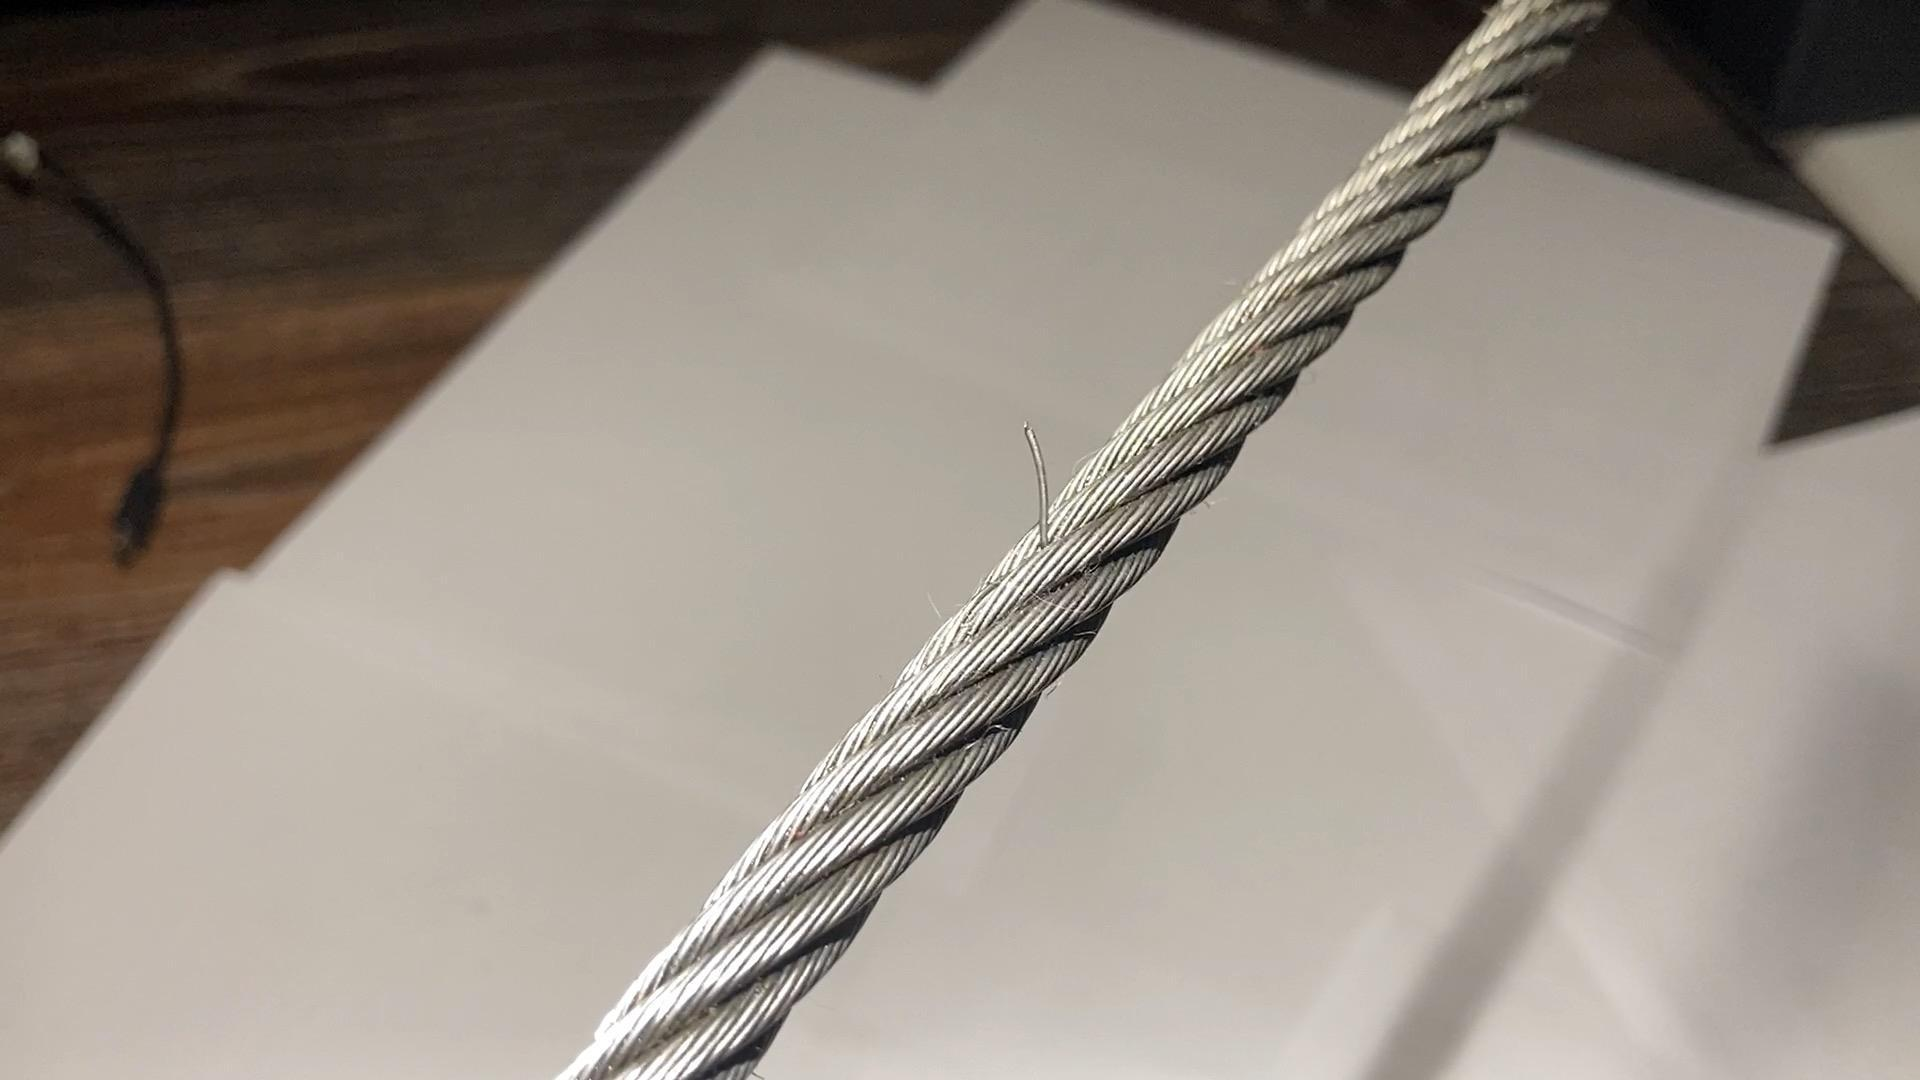break: (998, 413, 1080, 566)
